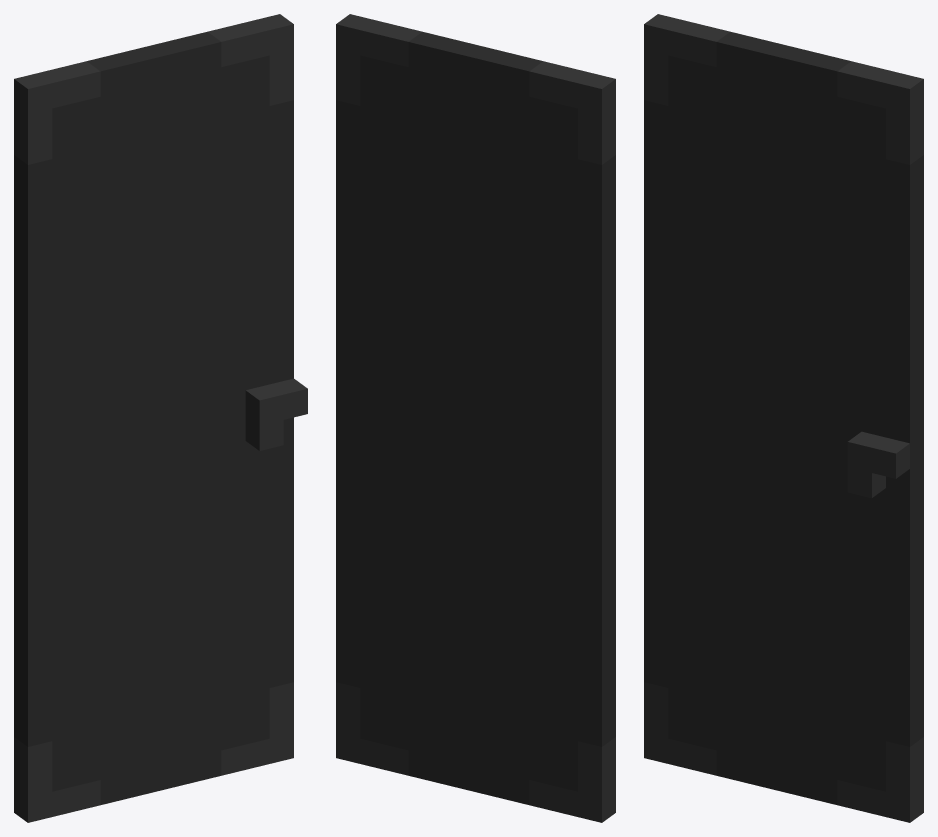
File: Decor-56.obj
3 renders of one model, left to right at view 1: azimuth 30°, elevation 25°; view 2: azimuth 150°, elevation 25°; view 3: azimuth 330°, elevation 25°, orthographic.
Bounding box in the file's own units: 1.1 × 2.9 × 0.2.
Materials: 1 (1 with a texture image).
